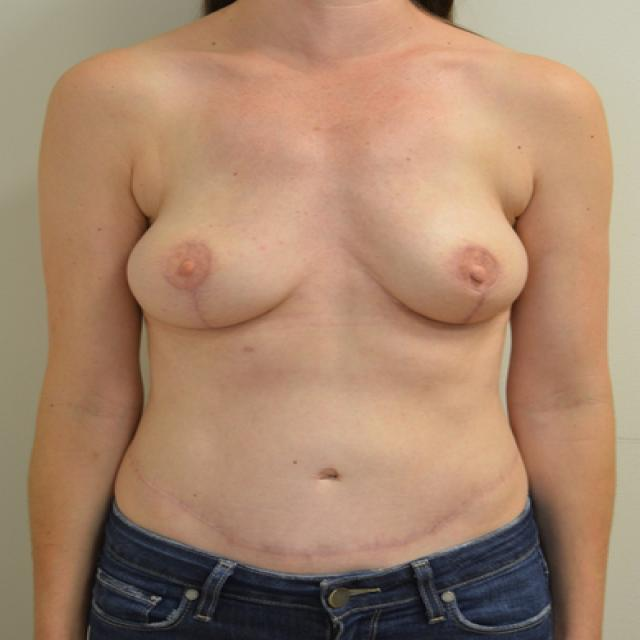Seno herido: (339, 172, 537, 350), (118, 171, 318, 347)
